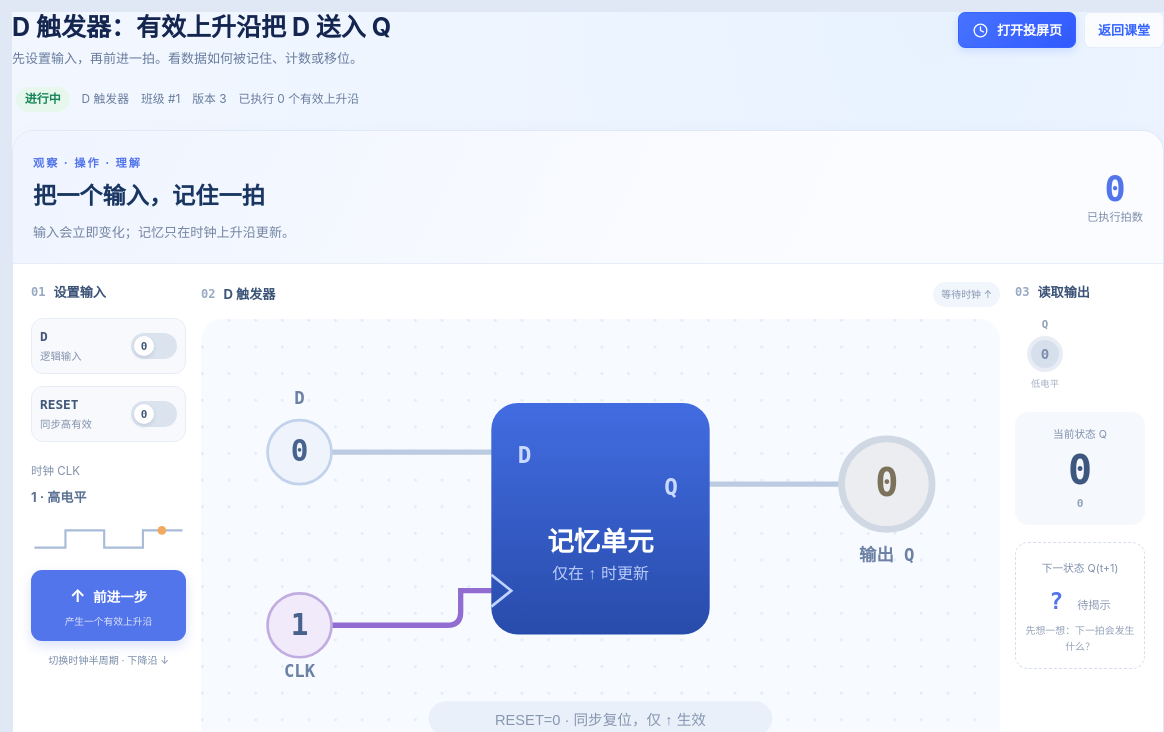
Scenario: 教师演示控制台 › 高电平前进的第一个请求冲突时停止，不继续或自动重放
The width and height of the screenshot is (1164, 732).
Click the button "↑ 前进一步 产生一个有效上升沿": (108, 605) [31,570,186,641]
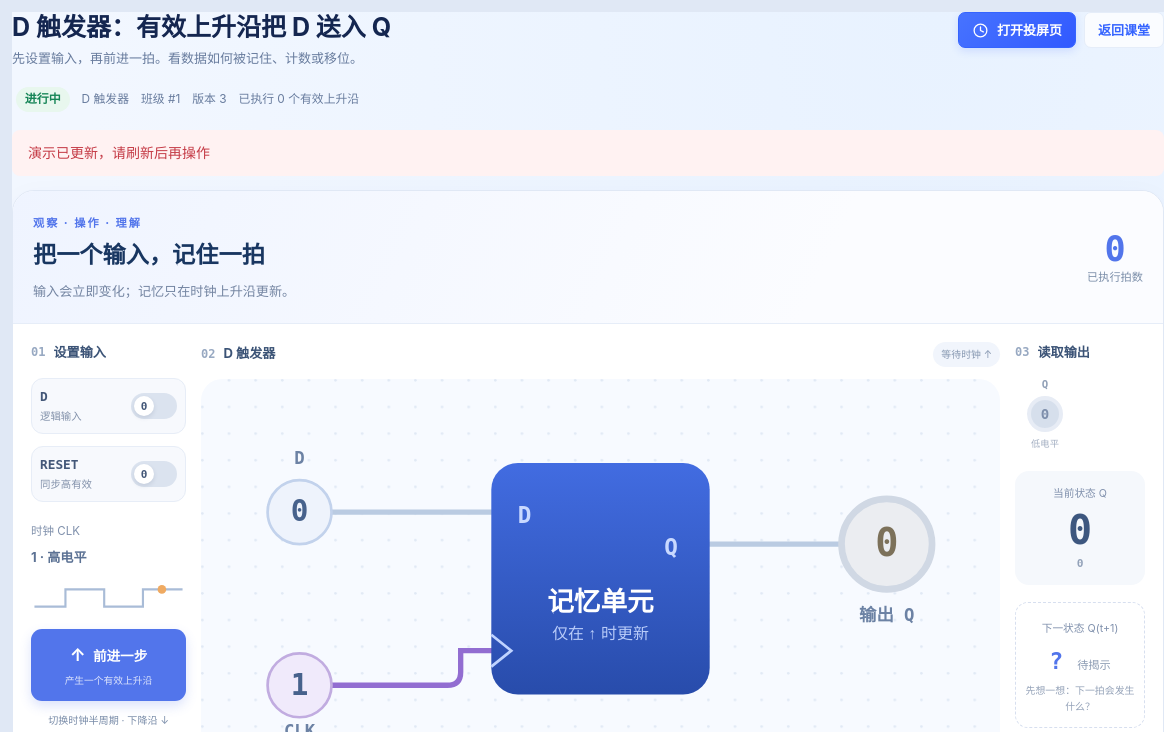
Now the text "演示已更新" is shown, box [28,144,210,161]
